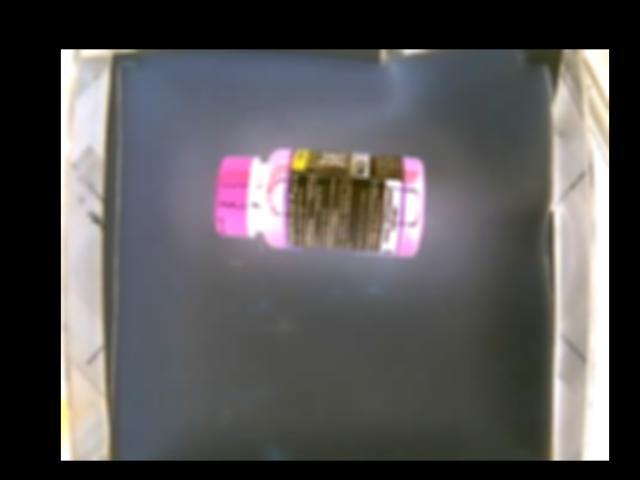Bottle: (219, 147, 427, 258)
